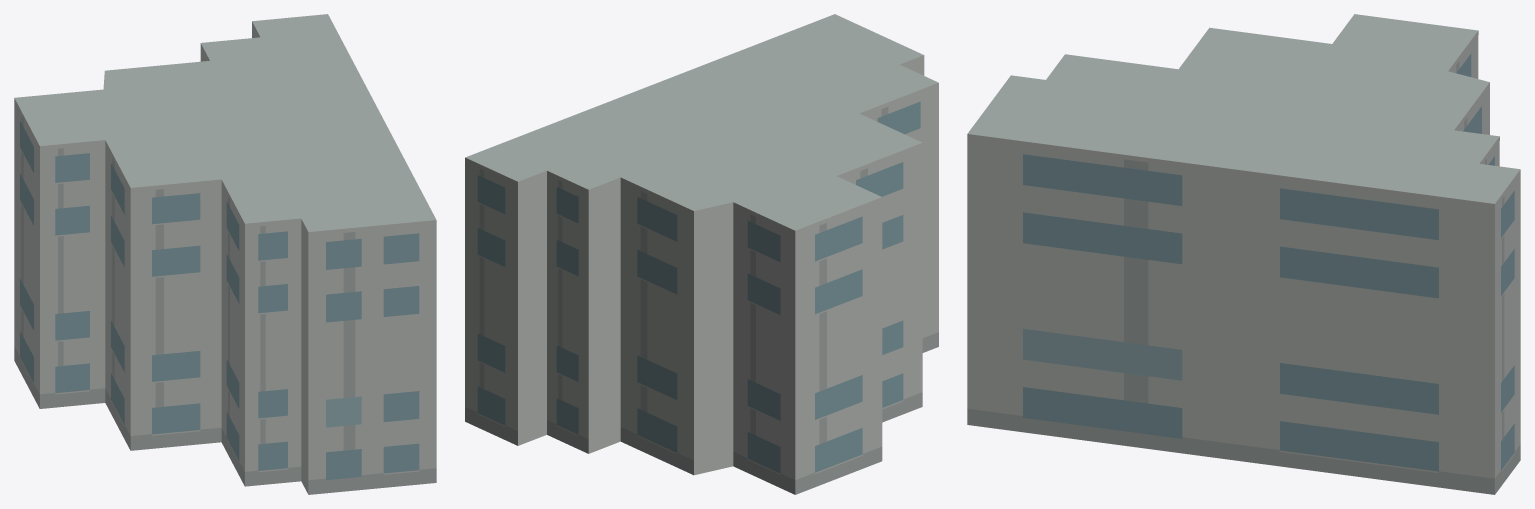
Rendered from residential-95431347-5bea-4745-af84-176b91791d8d.glb.
3 renders of one model, left to right at view 1: azimuth 30°, elevation 25°; view 2: azimuth 150°, elevation 25°; view 3: azimuth 270°, elevation 25°, orthographic. The views are drawn at different scales.
Visible parts, largest first — view 1: residential-95431347-5bea-4745-af84-176b91791d8d.tmp; view 2: residential-95431347-5bea-4745-af84-176b91791d8d.tmp; view 3: residential-95431347-5bea-4745-af84-176b91791d8d.tmp.
Boxes of the visible parts, bbox=[...] form: residential-95431347-5bea-4745-af84-176b91791d8d.tmp: bbox=[14, 14, 436, 494]; residential-95431347-5bea-4745-af84-176b91791d8d.tmp: bbox=[465, 14, 938, 494]; residential-95431347-5bea-4745-af84-176b91791d8d.tmp: bbox=[967, 14, 1520, 494].
Size of the model in its own units: 21.36 by 15.25 by 26.29.
